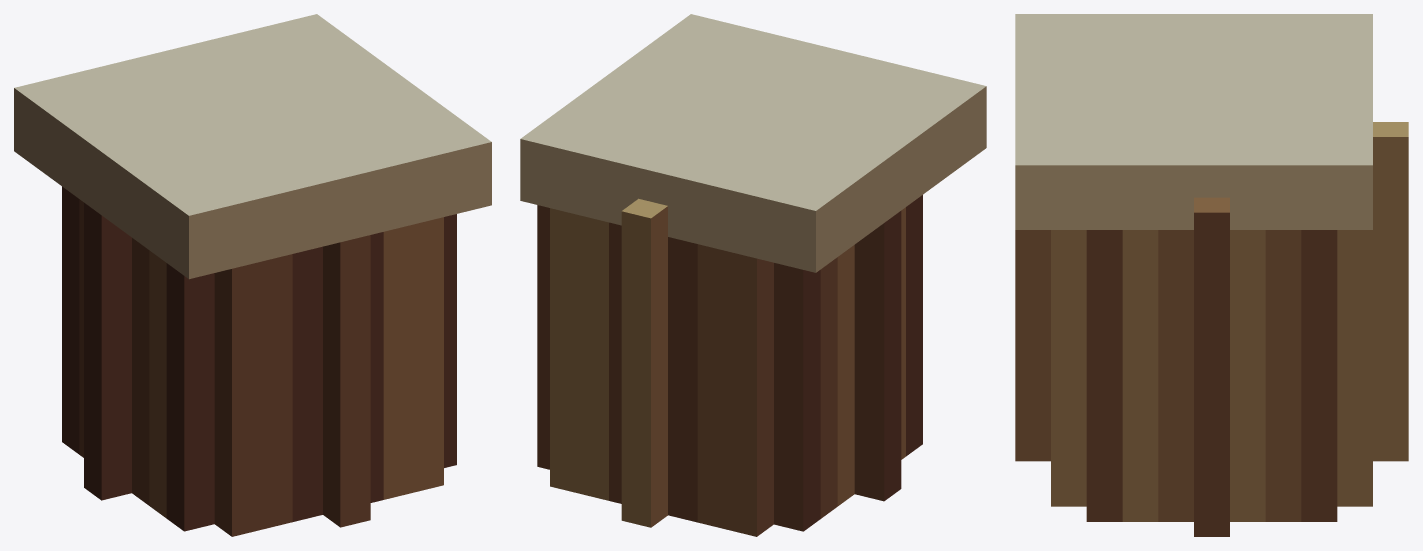
File: veg_stump-oak_var01_small.glb
3 views of the same model, side by side, from view 1: azimuth 30°, elevation 25°; view 2: azimuth 150°, elevation 25°; view 3: azimuth 270°, elevation 25° (orthographic). The views are drawn at different scales.
Parts seen in each view (by area): view 1: veg_stump-oak_var01_small; view 2: veg_stump-oak_var01_small; view 3: veg_stump-oak_var01_small.
Part boxes in pixels (<box>): veg_stump-oak_var01_small: <box>14,14,491,536</box>; veg_stump-oak_var01_small: <box>520,14,986,536</box>; veg_stump-oak_var01_small: <box>1015,14,1408,536</box>.
Size of the model in its own units: 0.6875 by 0.6875 by 0.6875.
